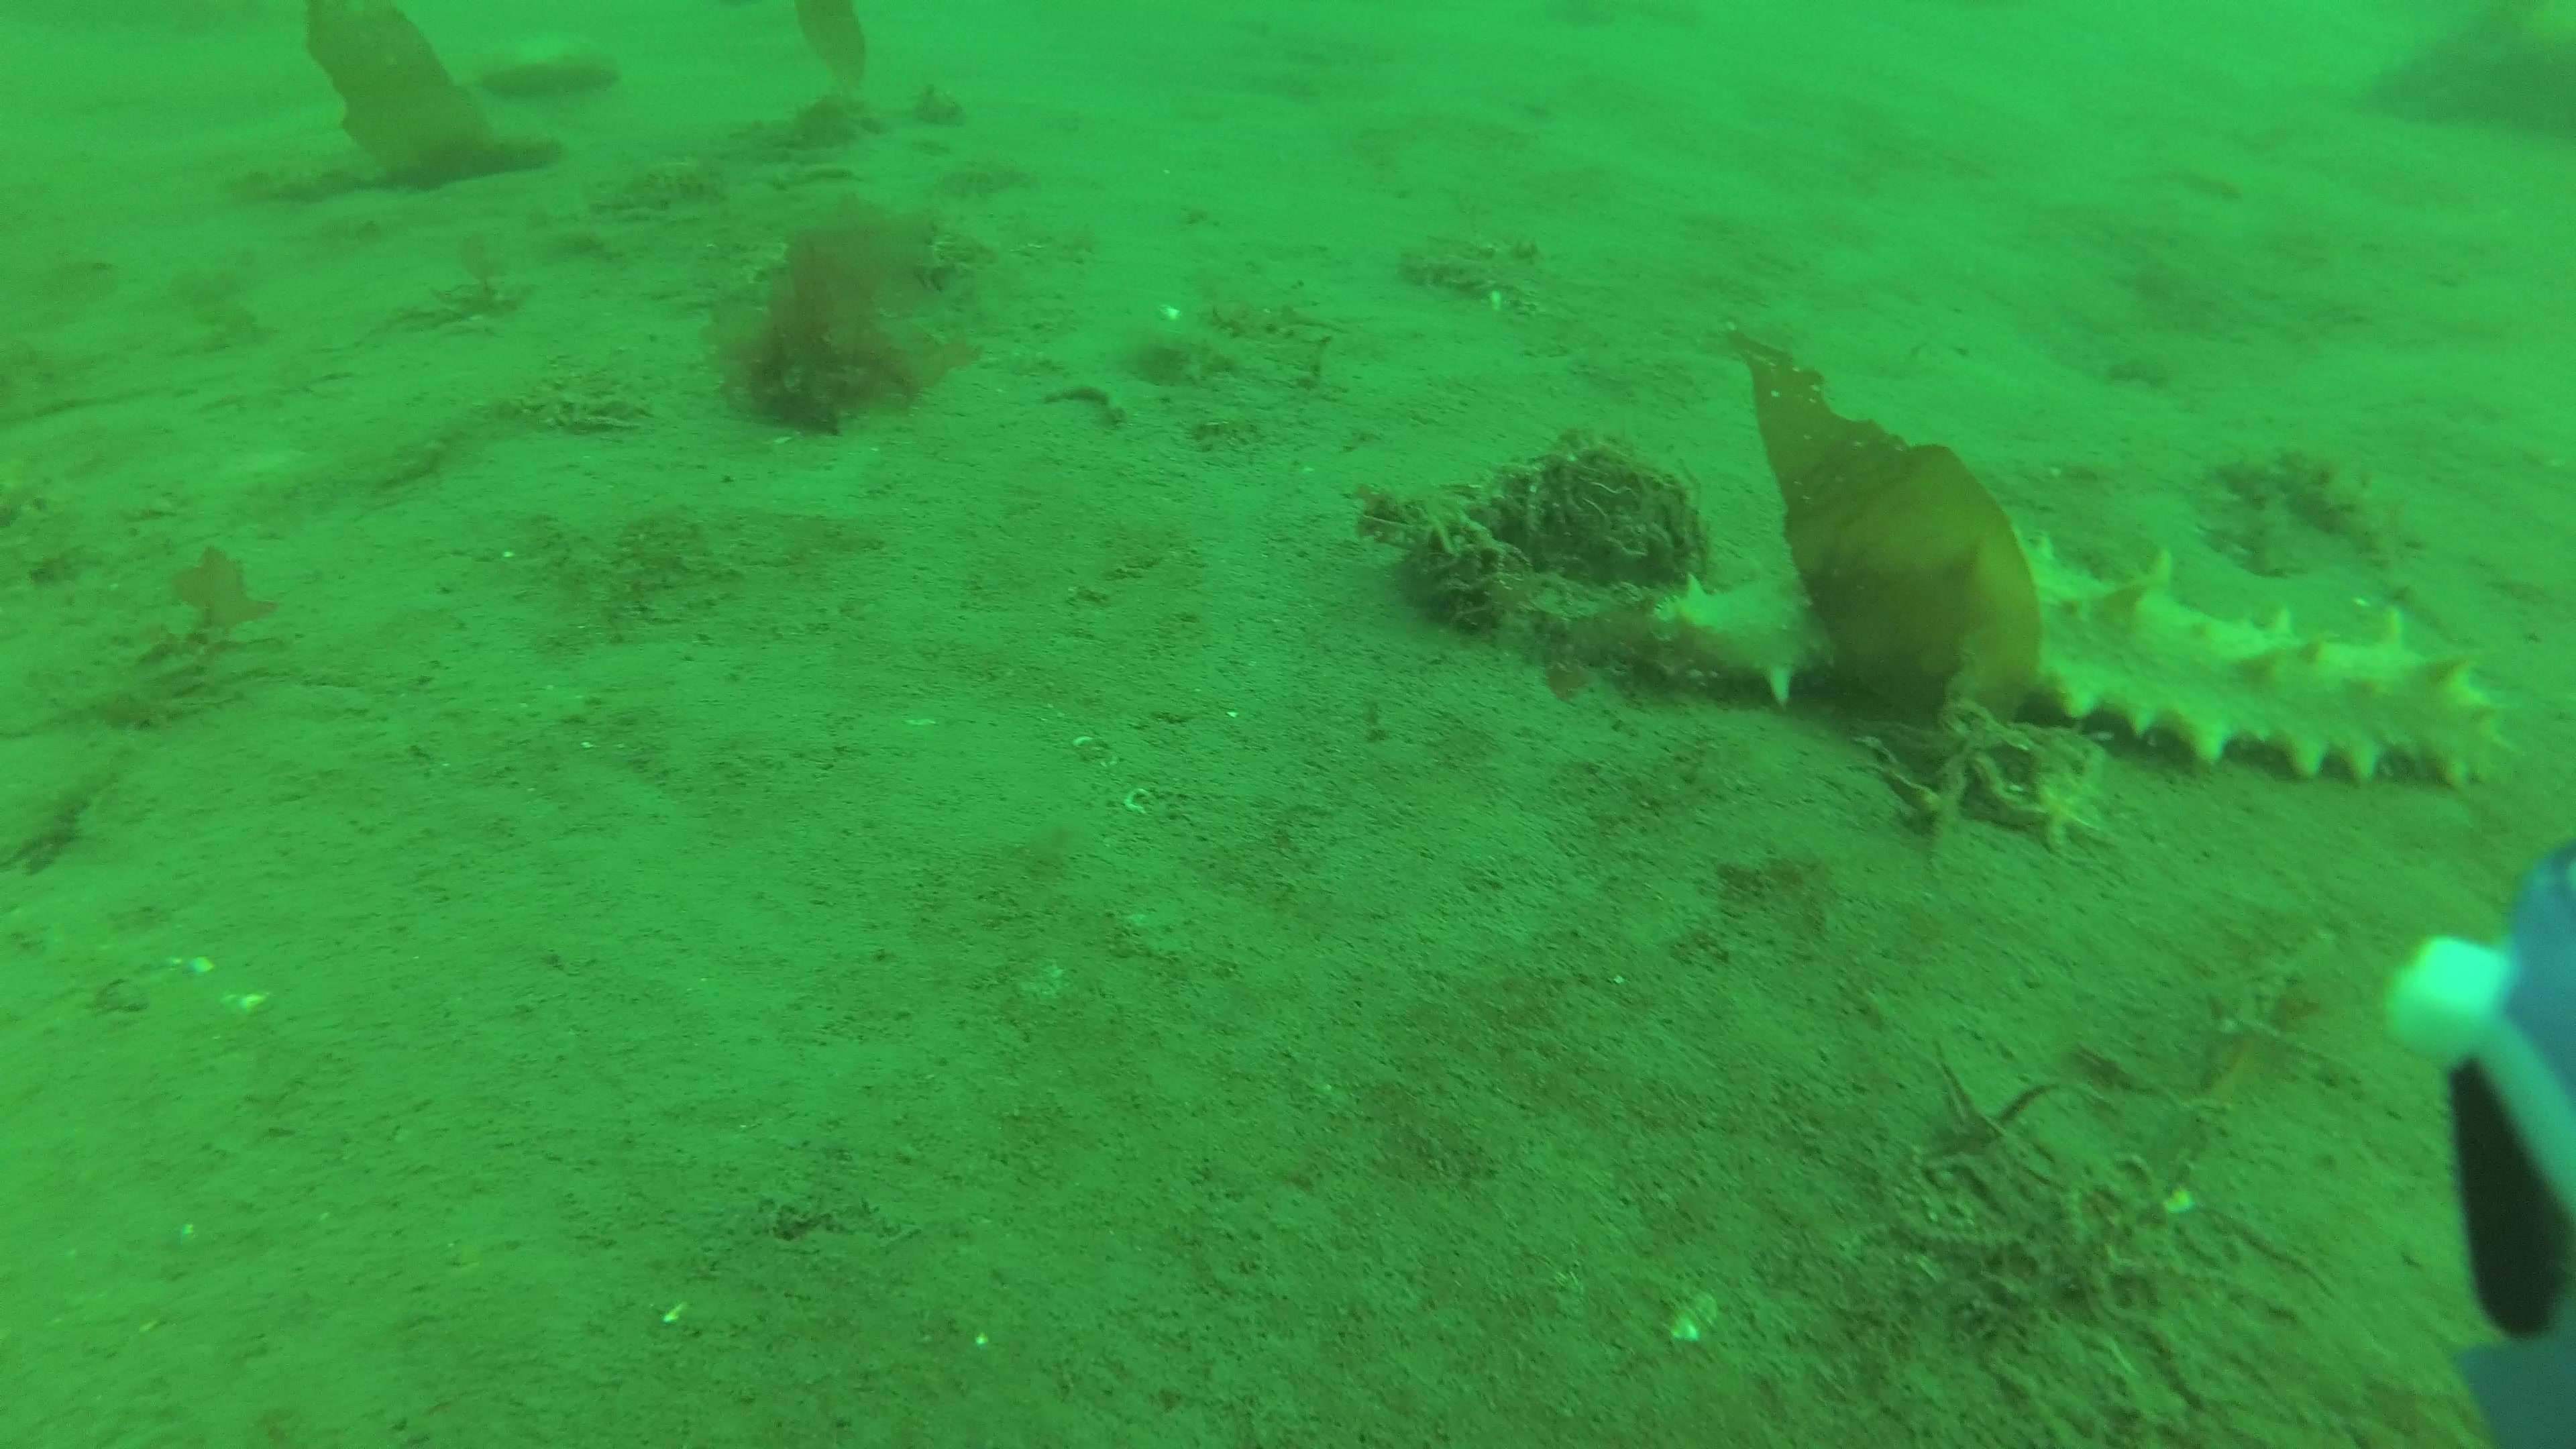holothurian: (1652, 518, 2519, 791)
